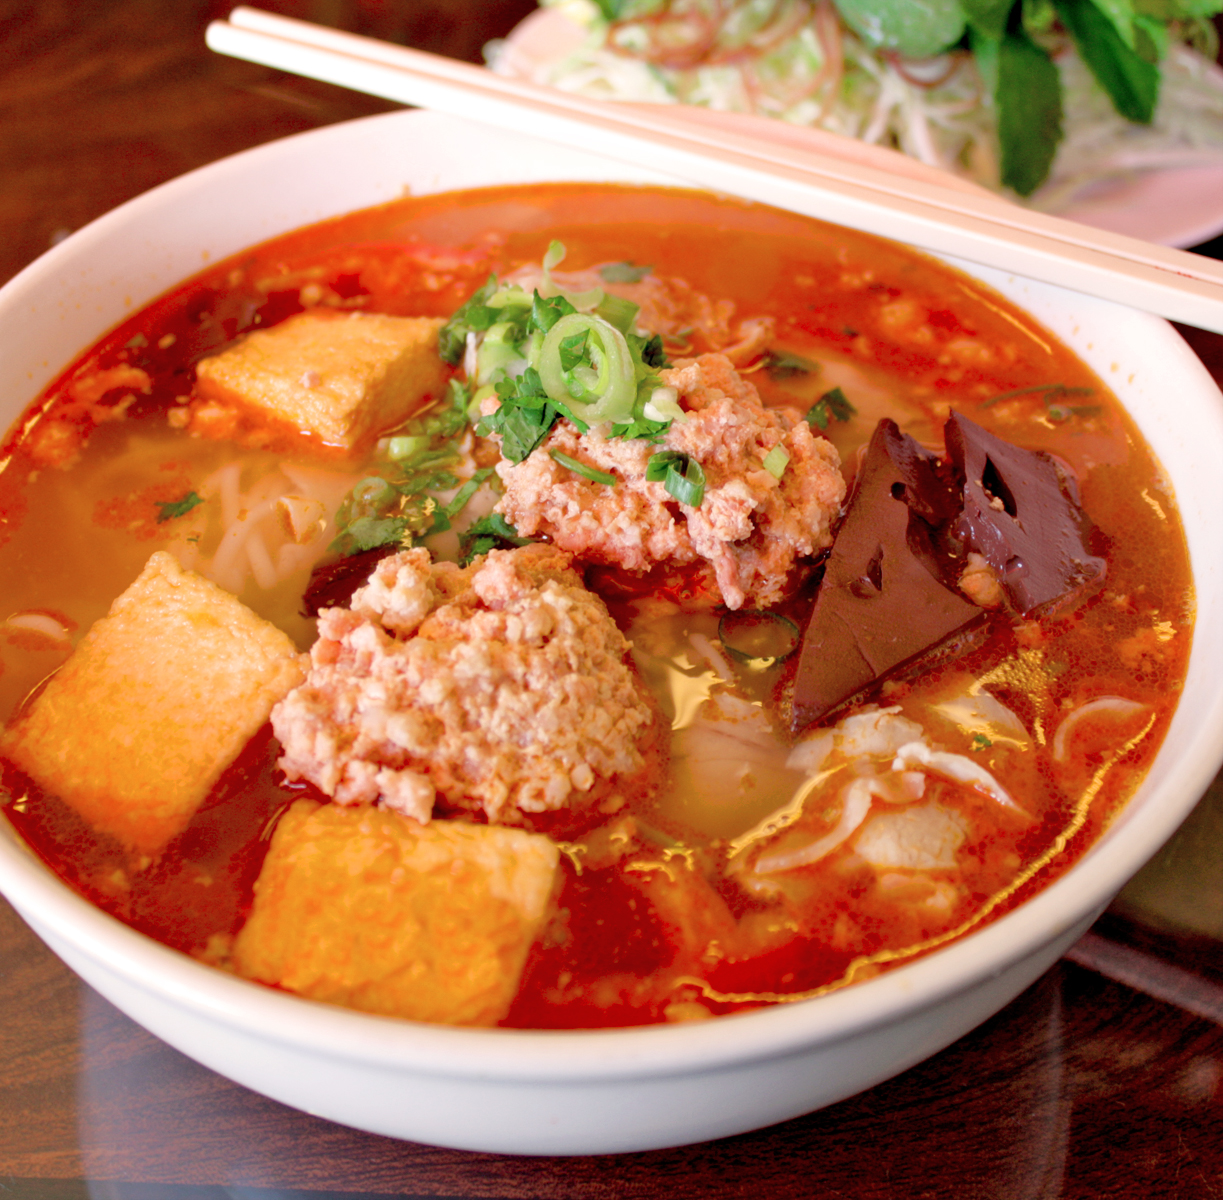onion: (453, 291, 655, 446)
rieu: (292, 543, 640, 809), (516, 380, 823, 554)
tofu: (14, 557, 282, 855), (275, 795, 549, 1027), (212, 296, 442, 451)
